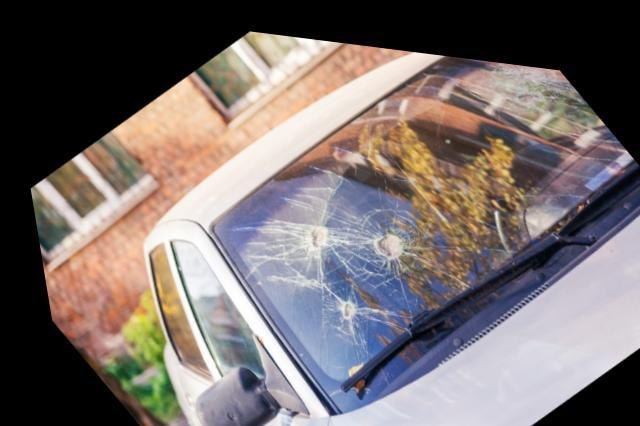glass shatter: (207, 44, 640, 403)
